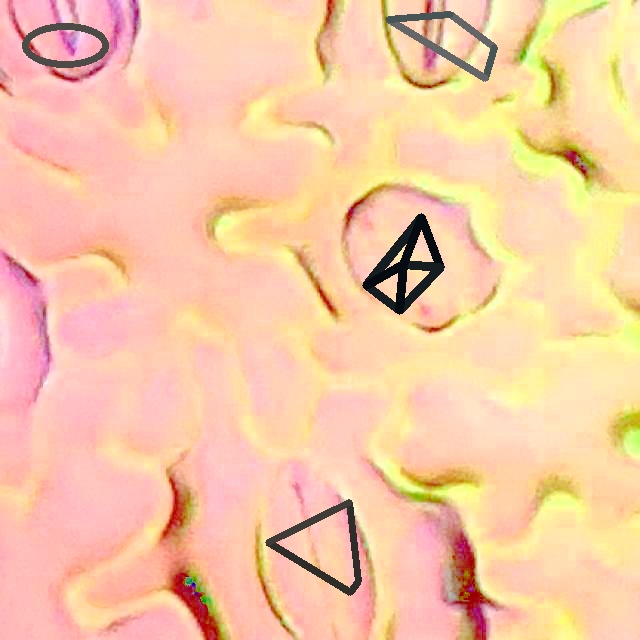close: (266, 499, 360, 595), (362, 213, 444, 314)
open: (385, 11, 496, 81), (21, 22, 109, 68)
